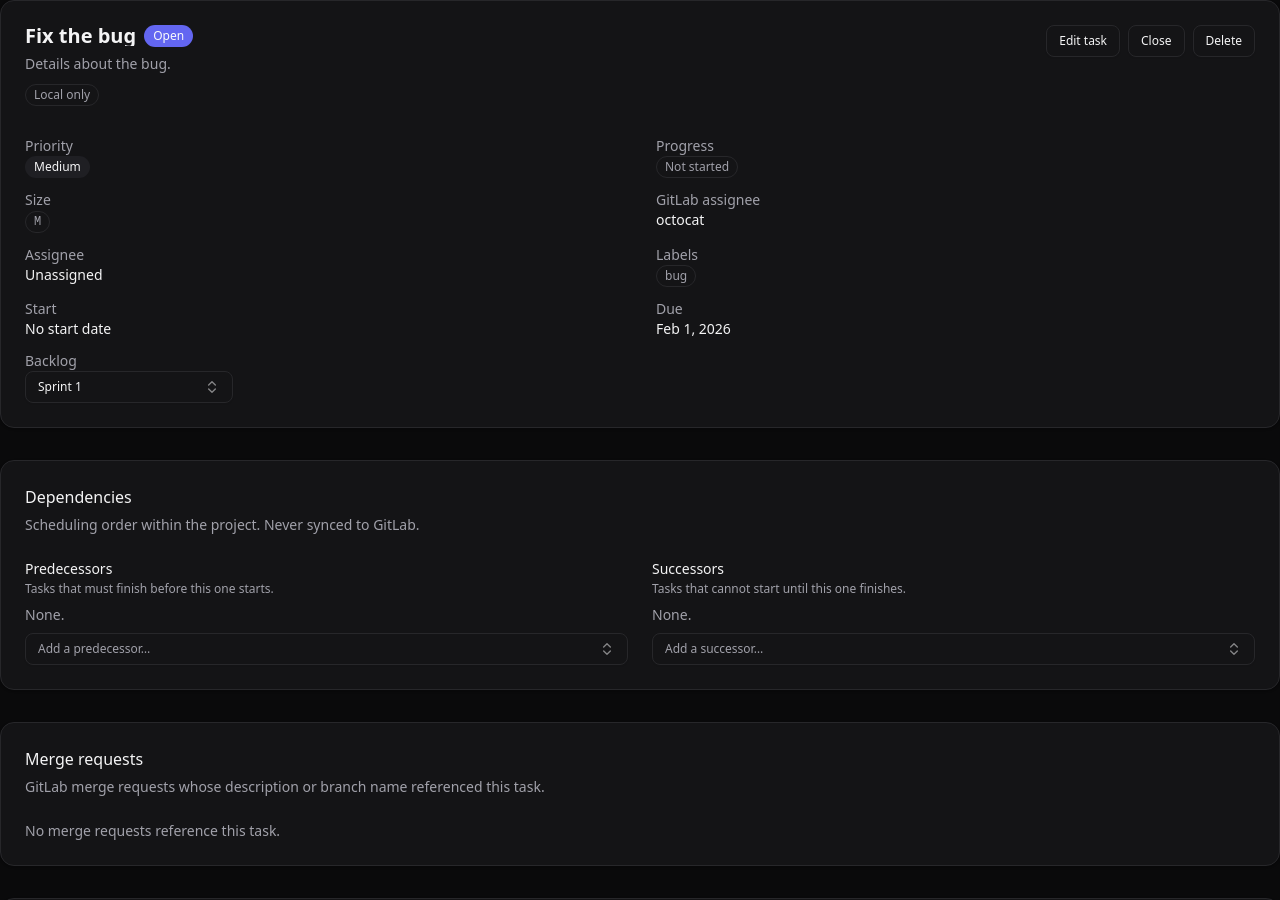
Test: TaskDetail › closes an open task
The width and height of the screenshot is (1280, 900).
Click the button "Close".
click(1156, 41)  # box [1128,25,1184,57]
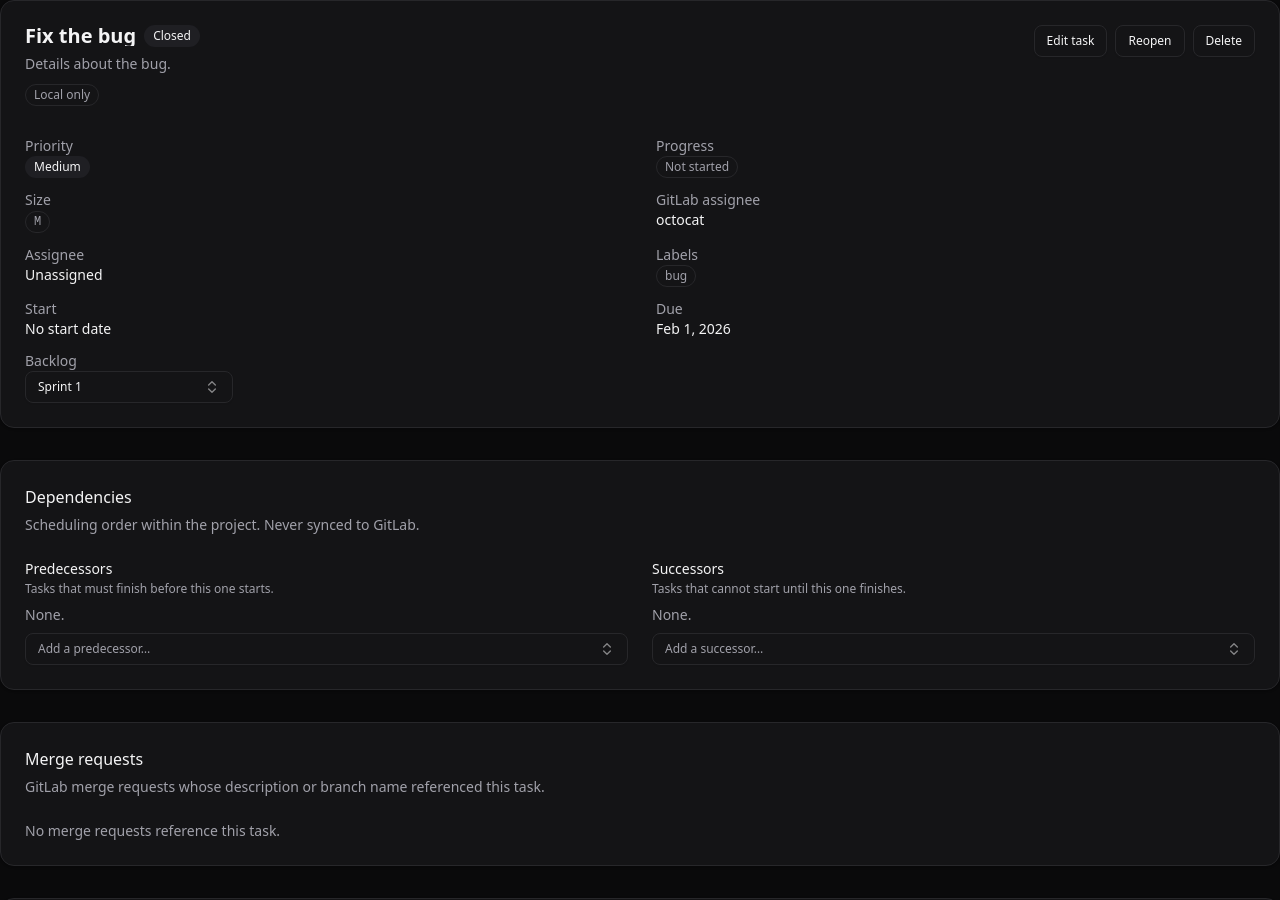
Now the button "Reopen" is shown, box [1115,25,1184,57]
